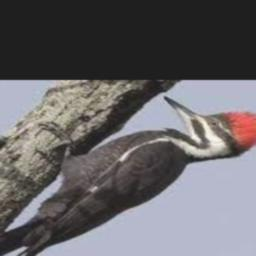Woodpecker: (0, 96, 256, 256)
